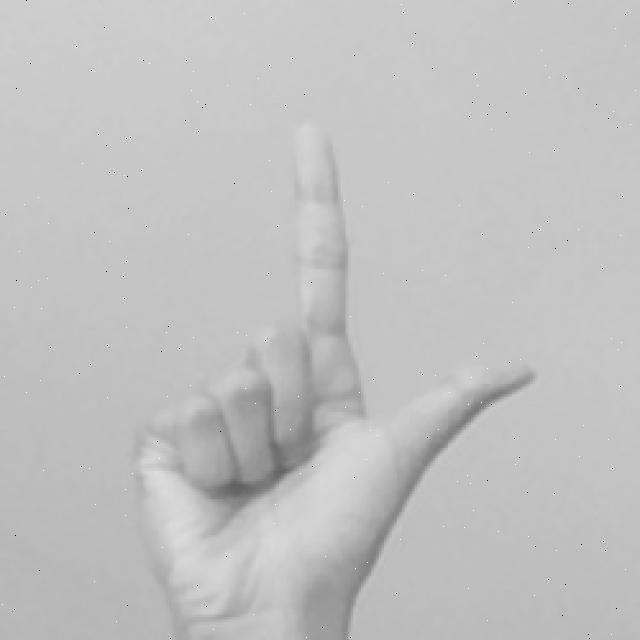L: (125, 117, 542, 640)
